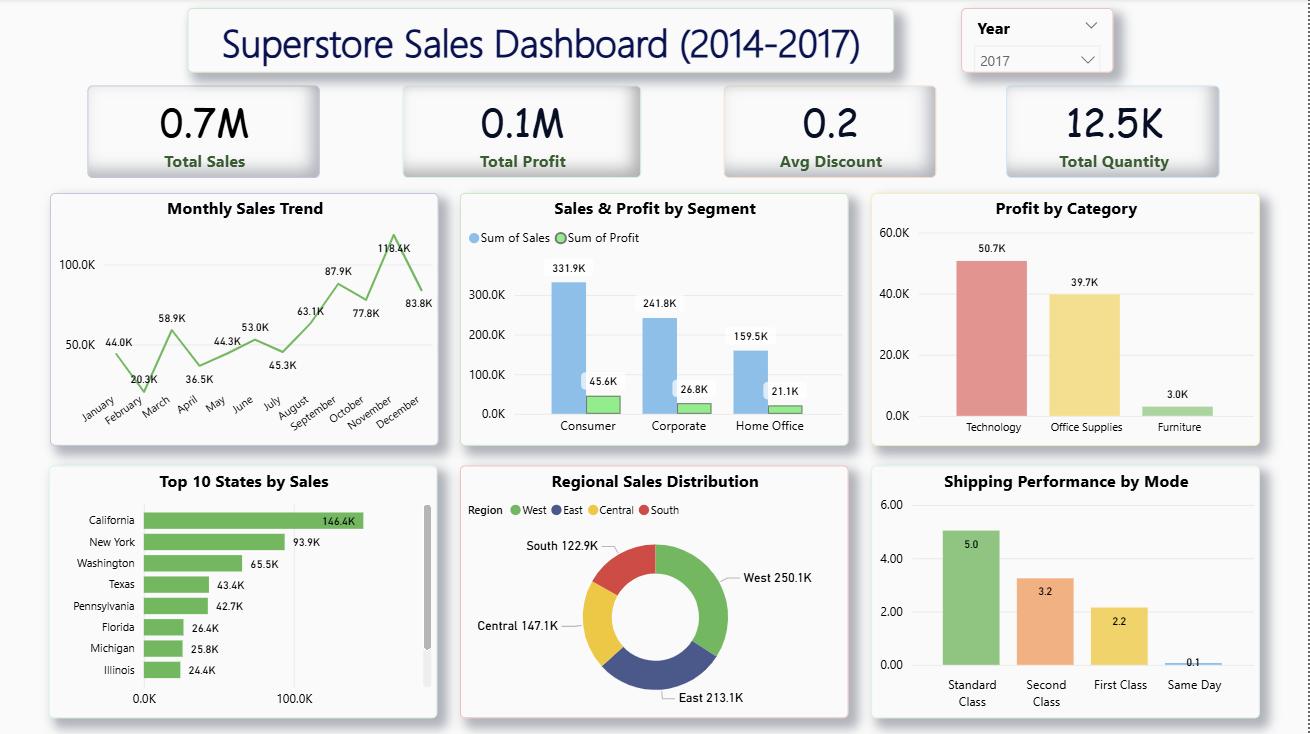

Layout of this report page (visuals, bound fields, positions):
{"tool":"powerbi","page":{"name":"Overview","canvas":[1280,720],"ordinal":0},"visuals":[{"type":"card","fields":{"Values":["Sum(superstore.Sales)"]},"box":[85.6,85.6,227.4,90.5],"z":0},{"type":"card","fields":{"Values":["Sum(superstore.Profit)"]},"box":[393.8,85.6,233.6,90.5],"z":1000},{"type":"card","fields":{"Values":["Sum(superstore.Quantity)"]},"box":[984.4,85.6,209.1,90.5],"z":2000},{"type":"card","fields":{"Values":["Avg(superstore.Discount)"]},"box":[708,85.6,207.9,90.5],"z":3000},{"type":"donutChart","title":"Regional Sales Distribution","fields":{"Category":["superstore.Region"],"Y":["Sum(superstore.Sales)"]},"box":[450,457.3,380.3,247],"z":4000},{"type":"lineChart","title":"Monthly Sales Trend","fields":{"Category":["superstore.Order Date.Variation.Date Hierarchy.Month"],"Y":["Sum(superstore.Sales)"]},"box":[48.9,190.8,380.3,247],"z":5000},{"type":"clusteredBarChart","title":"Top 10 States by Sales","fields":{"Category":["superstore.State"],"Y":["Sum(superstore.Sales)"]},"box":[47.7,457.3,380.3,247],"z":6000},{"type":"clusteredColumnChart","title":"Profit by Category","fields":{"Category":["superstore.Category"],"Y":["Sum(superstore.Profit)"]},"box":[852.3,190.8,380.3,247],"z":7000},{"type":"lineClusteredColumnComboChart","title":"Sales & Profit by Segment","fields":{"Category":["superstore.Segment"],"Y":["Sum(superstore.Sales)","Sum(superstore.Profit)"]},"box":[450,190.8,380.3,247],"z":8000},{"type":"clusteredColumnChart","title":"Shipping Performance by Mode","fields":{"Category":["superstore.Ship Mode"],"Y":["Avg(superstore.Shipping Days)"]},"box":[852.3,457.3,380.3,247],"z":9000},{"type":"textbox","box":[183.4,9.8,690.9,63.6],"z":10000},{"type":"slicer","fields":{"Values":["superstore.Order Date.Variation.Date Hierarchy.Year"]},"box":[940.4,9.8,149.2,63.6],"z":11000}]}

Visuals, with their boxes in screenshot pixels (x1, y1, x2, y2), scaled from the page's 1280x720 canvas onto the 1310x734 screenshot:
card - Sum(superstore.Sales): x1=88, y1=87, x2=320, y2=180
card - Sum(superstore.Profit): x1=403, y1=87, x2=642, y2=180
card - Sum(superstore.Quantity): x1=1007, y1=87, x2=1221, y2=180
card - Avg(superstore.Discount): x1=725, y1=87, x2=937, y2=180
"Regional Sales Distribution" donutChart: x1=461, y1=466, x2=850, y2=718
"Monthly Sales Trend" lineChart: x1=50, y1=195, x2=439, y2=446
"Top 10 States by Sales" clusteredBarChart: x1=49, y1=466, x2=438, y2=718
"Profit by Category" clusteredColumnChart: x1=872, y1=195, x2=1261, y2=446
"Sales & Profit by Segment" lineClusteredColumnComboChart: x1=461, y1=195, x2=850, y2=446
"Shipping Performance by Mode" clusteredColumnChart: x1=872, y1=466, x2=1261, y2=718
textbox: x1=188, y1=10, x2=895, y2=75
slicer - superstore.Order Date.Variation.Date Hierarchy.Year: x1=962, y1=10, x2=1115, y2=75
